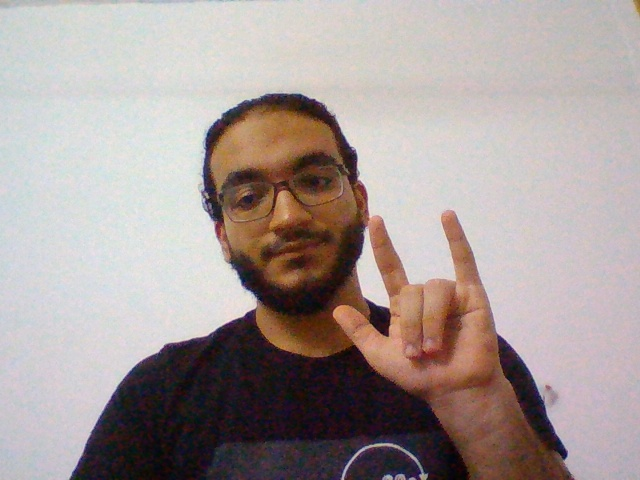I Love Yoy: (331, 204, 512, 409)
